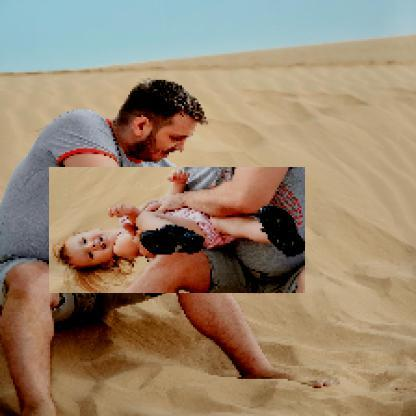child: (50, 168, 307, 295)
